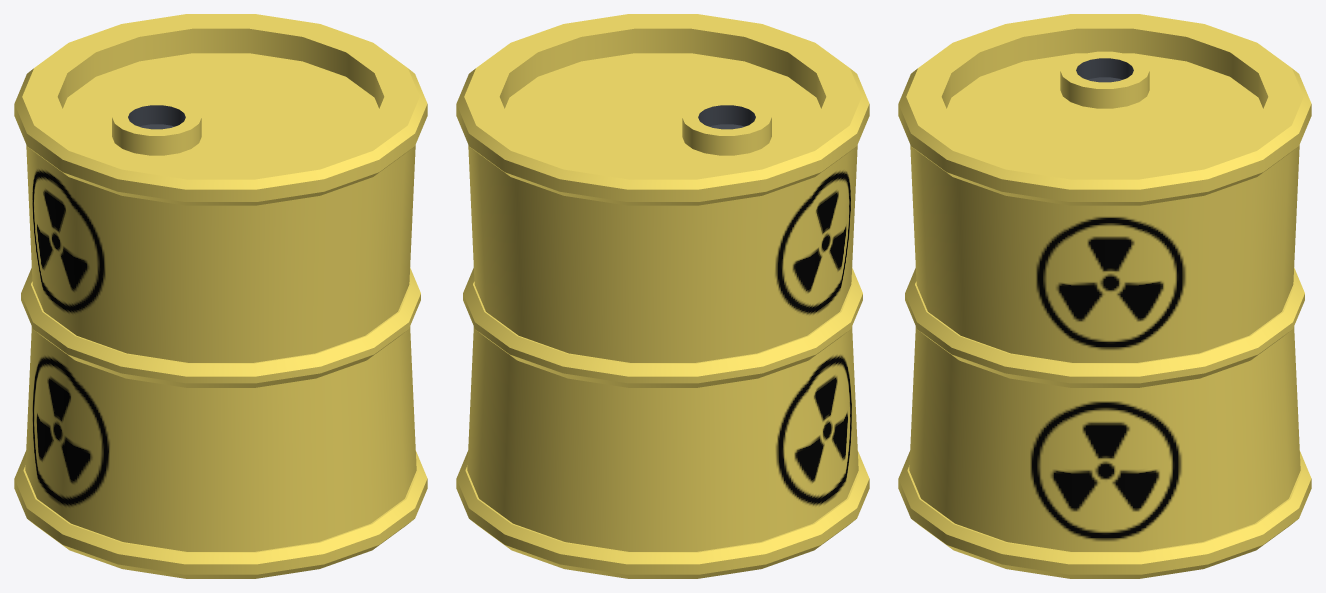
Rendered from Barrel002.fbx.
3 views of the same model, side by side, from view 1: azimuth 30°, elevation 25°; view 2: azimuth 150°, elevation 25°; view 3: azimuth 270°, elevation 25° (orthographic).
Parts seen in each view (by area): view 1: Barrel002; view 2: Barrel002; view 3: Barrel002.
Boxes of the visible parts, box(x1,y1,x2,y2) form: Barrel002: box(14, 14, 427, 578); Barrel002: box(456, 14, 869, 578); Barrel002: box(898, 14, 1311, 578).
Bounding box in the file's own units: 144 × 156 × 146.
